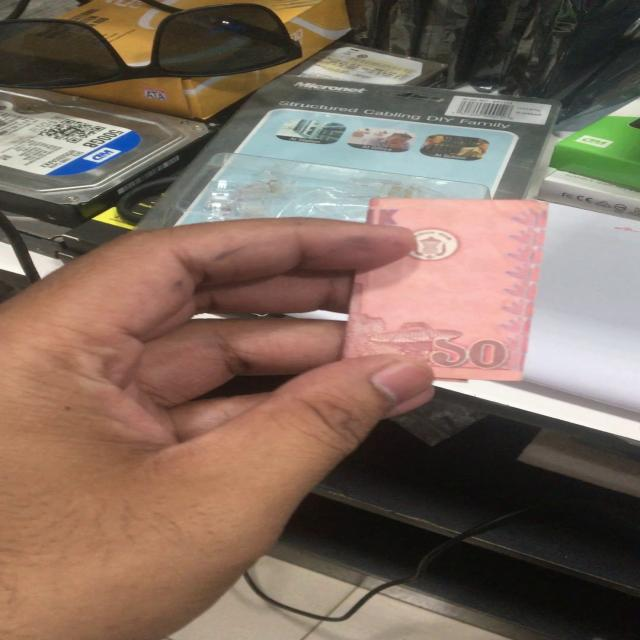Taka: (372, 200, 554, 389)
